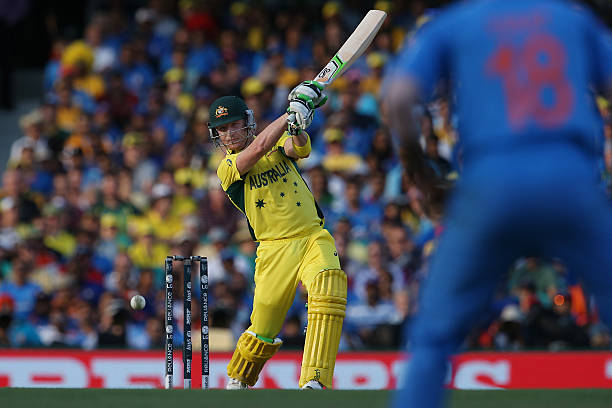bottom left: (365, 1, 380, 16)
bottom right: (376, 10, 393, 27)
top left: (308, 75, 319, 86)
top right: (320, 77, 333, 90)
